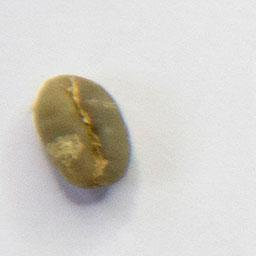peaberry: (30, 68, 137, 194)
